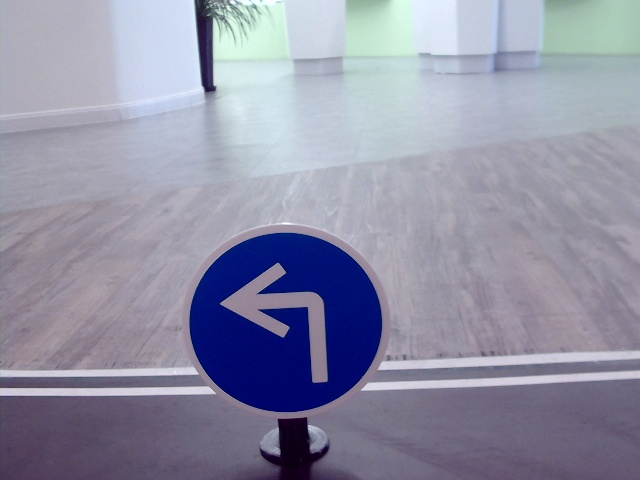turn_left: (219, 266, 342, 384)
